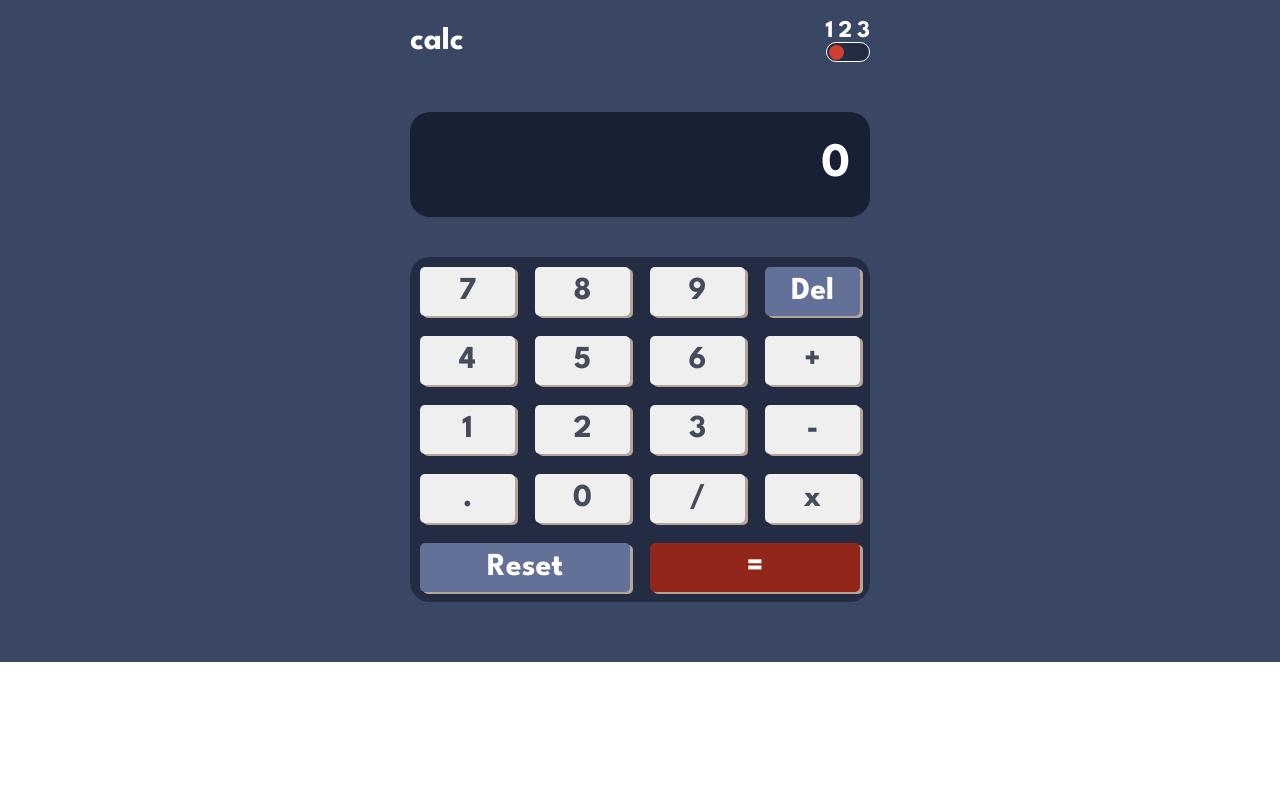
Run tests on the calculator › test the delete button
Click the button "1" at (468, 430), box [420, 405, 515, 454]
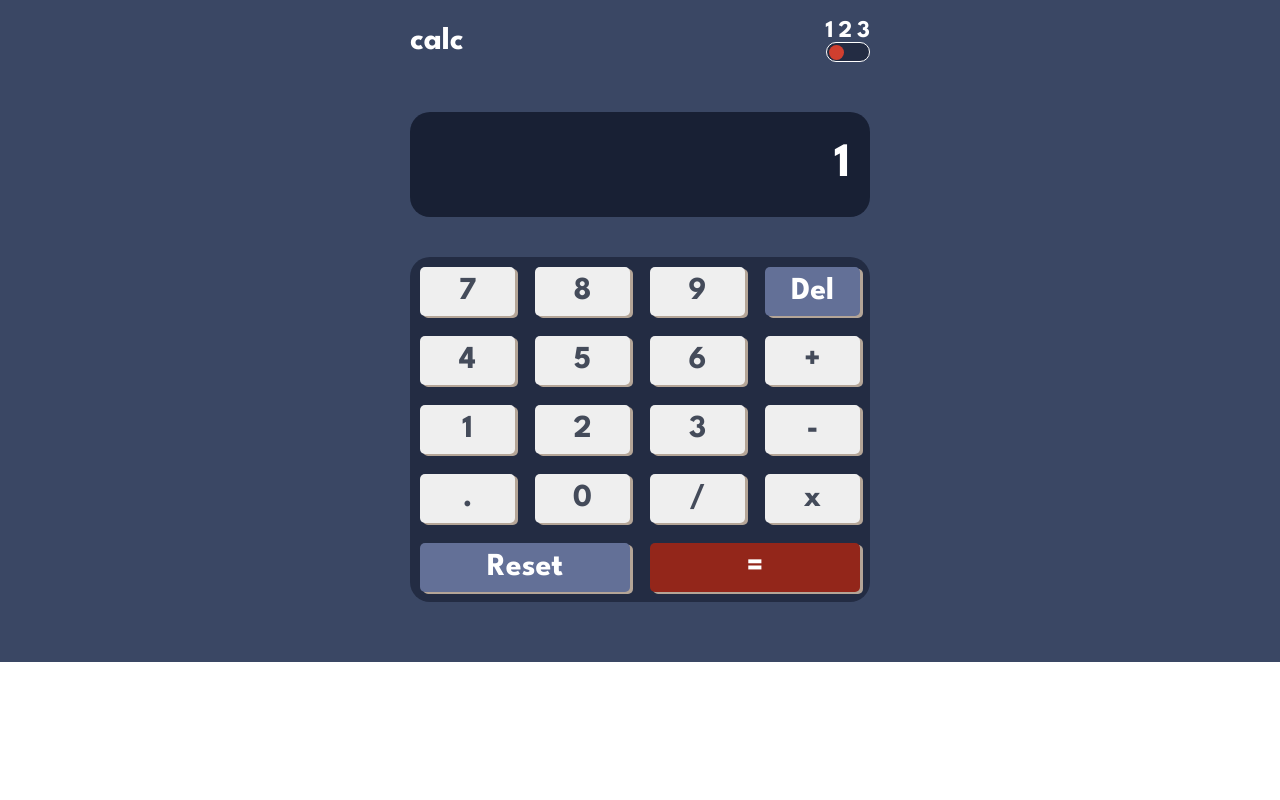
Click the button "7" at (468, 292), box [420, 267, 515, 316]
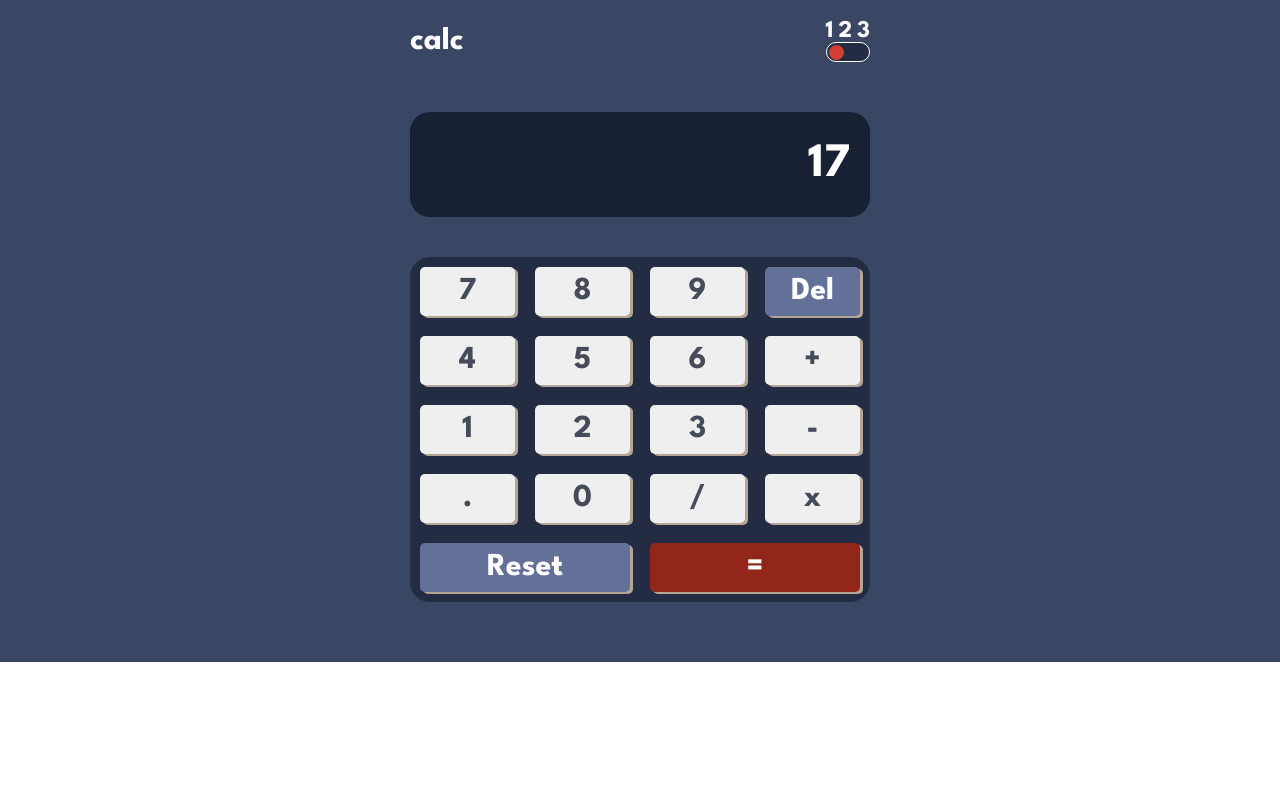
Click the button with class "deleteBtn" at (813, 292), box [765, 267, 860, 316]
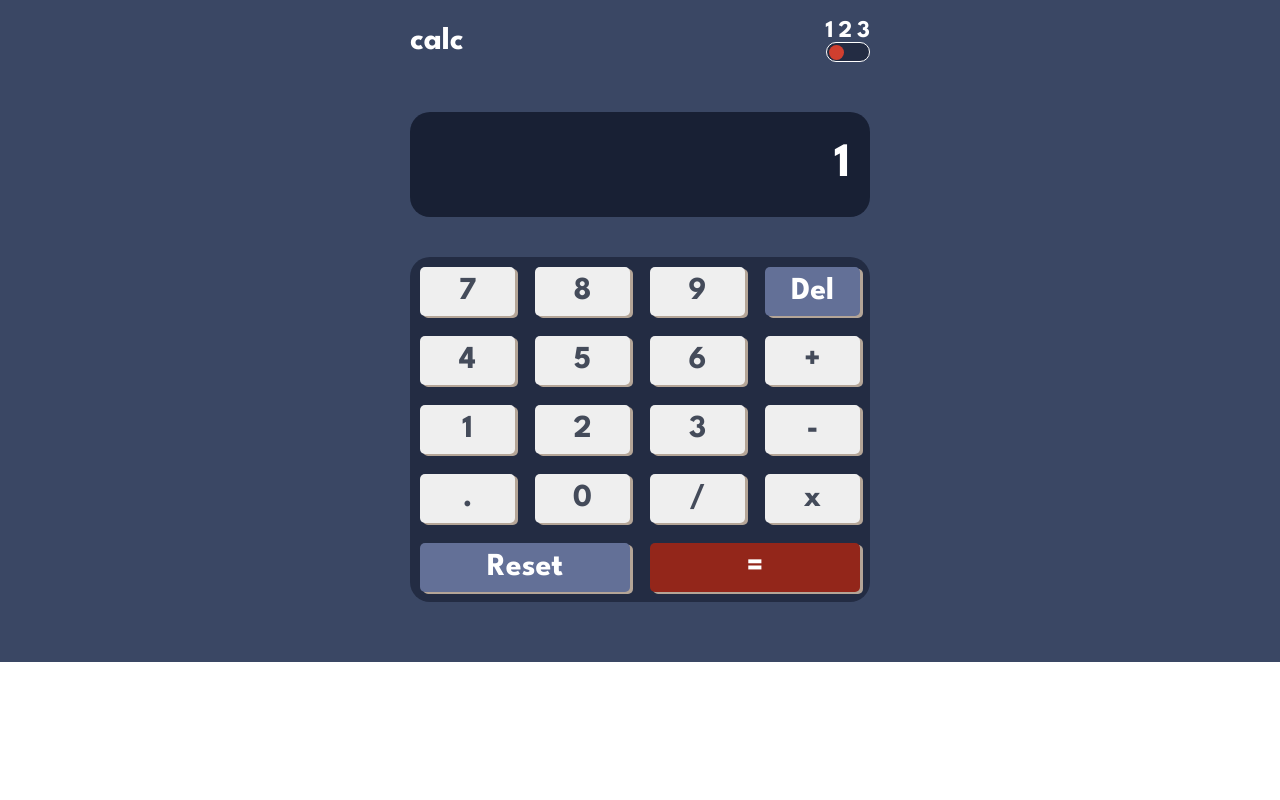
Expected: the element showing "1" is shown, [410, 112, 870, 217]
